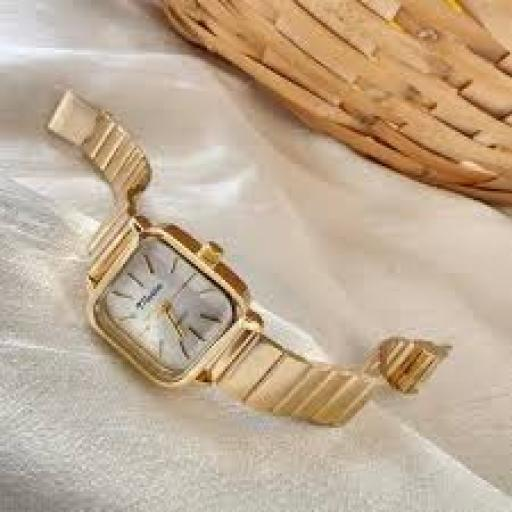KolSaati: (46, 85, 454, 431)
